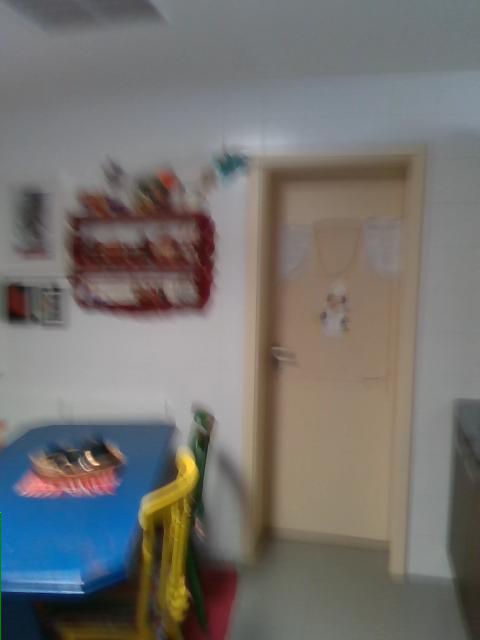door: (266, 173, 401, 546)
